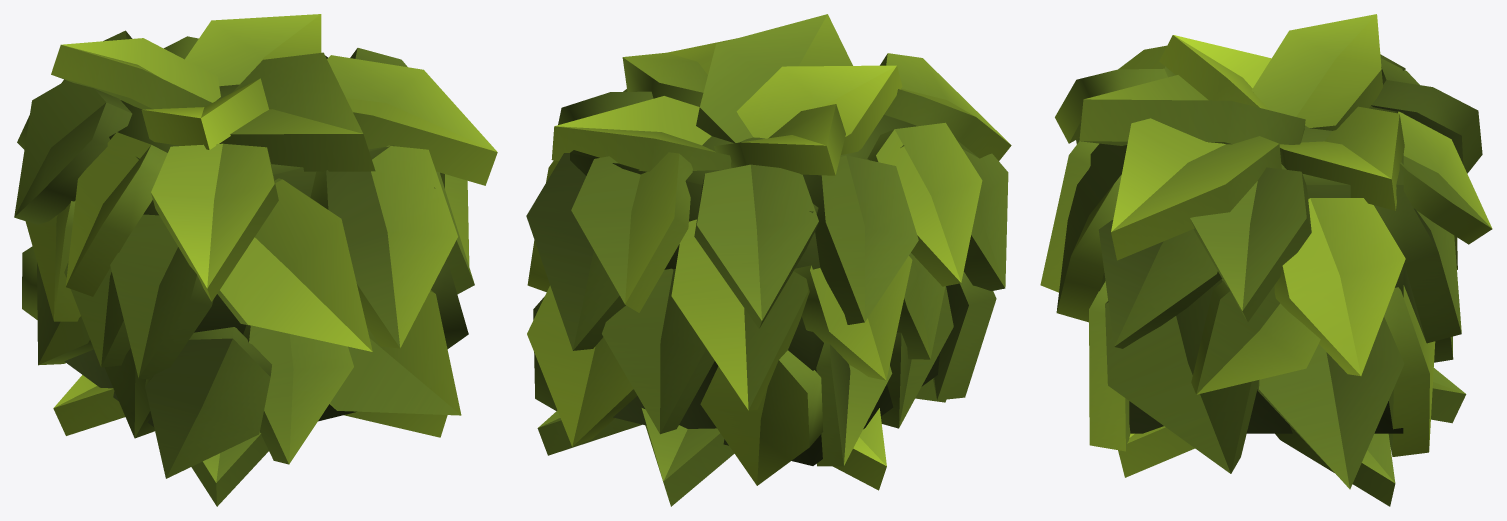
Rendered from Obstacle_Jungle.fbx.
3 views of the same model, side by side, from view 1: azimuth 30°, elevation 25°; view 2: azimuth 150°, elevation 25°; view 3: azimuth 270°, elevation 25° (orthographic). The views are drawn at different scales.
Parts seen in each view (by area): view 1: Obstacle_Jungle; view 2: Obstacle_Jungle; view 3: Obstacle_Jungle.
Boxes of the visible parts, x1,y1,x2,y2 form: Obstacle_Jungle: (14, 14, 497, 506); Obstacle_Jungle: (526, 14, 1011, 506); Obstacle_Jungle: (1040, 14, 1492, 506).
Bounding box in the file's own units: 123 × 108 × 121.
1 material, 1 textured.
